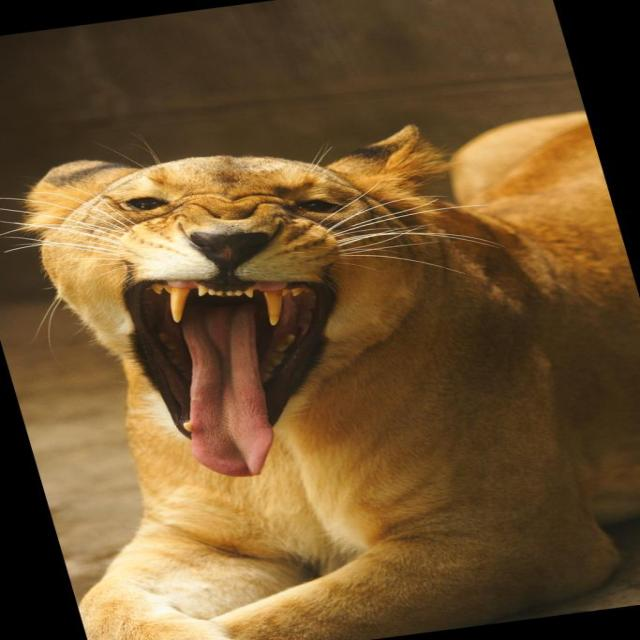Lion: (0, 70, 639, 640)
